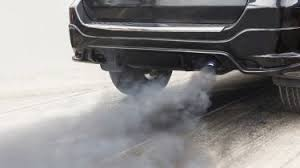car: (65, 1, 300, 109)
